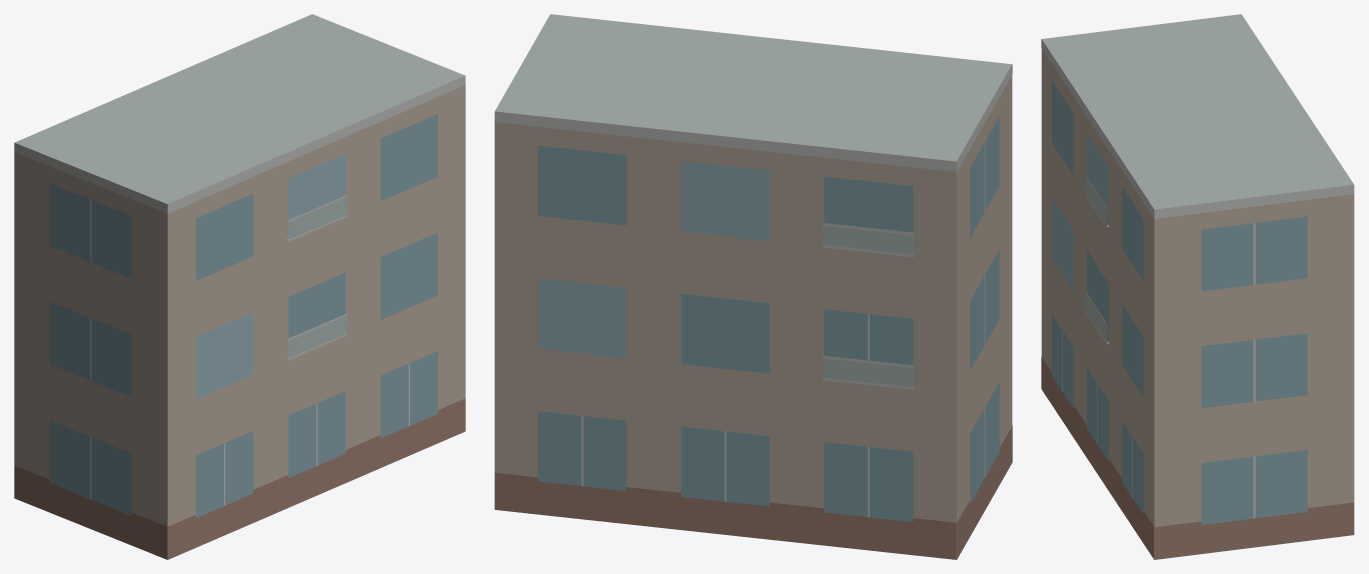
Rendered from survey-upis-32493540.glb.
The picture shows the model from 3 angles, left to right: view 1: azimuth 30°, elevation 25°; view 2: azimuth 150°, elevation 25°; view 3: azimuth 270°, elevation 25°; orthographic projection. The views are drawn at different scales.
Visible parts, largest first — view 1: survey-upis-32493540.tmp; view 2: survey-upis-32493540.tmp; view 3: survey-upis-32493540.tmp.
Boxes of the visible parts, bbox=[...] form: survey-upis-32493540.tmp: bbox=[14, 14, 465, 559]; survey-upis-32493540.tmp: bbox=[494, 14, 1012, 559]; survey-upis-32493540.tmp: bbox=[1041, 14, 1354, 559].
Bounding box in the file's own units: 11.03 × 9.2 × 7.45.
